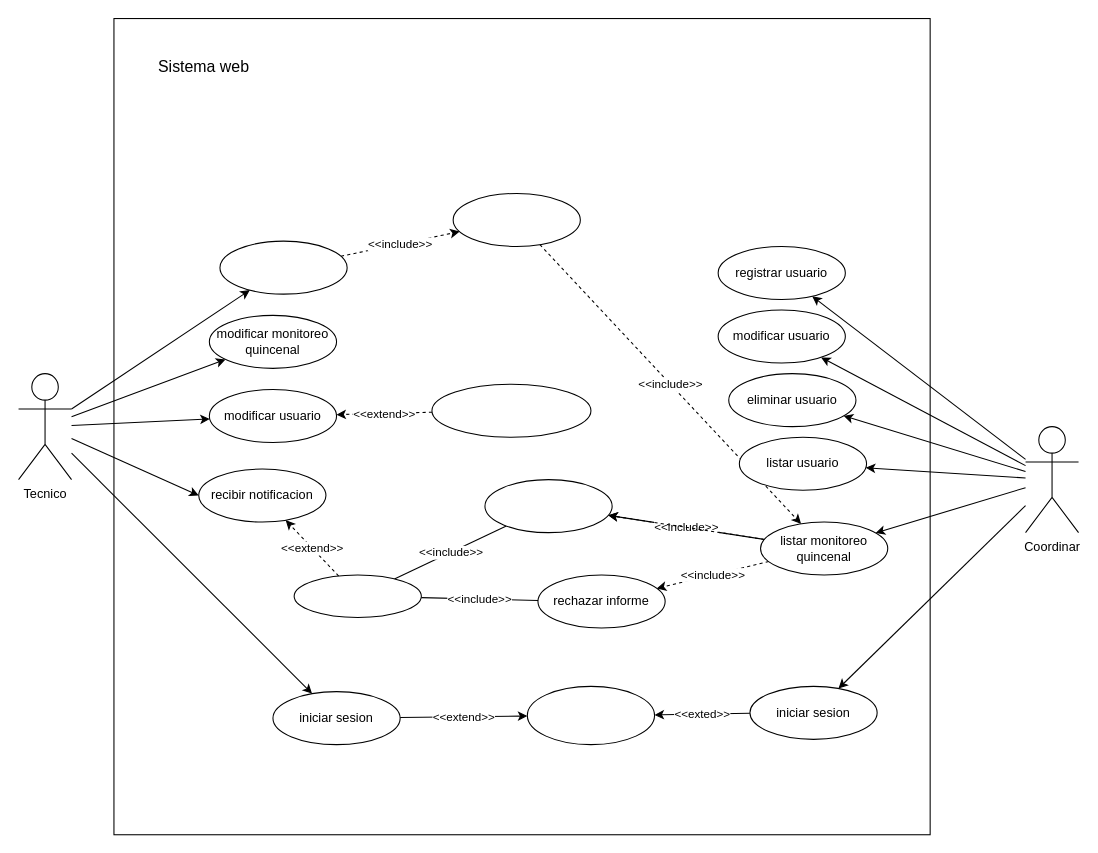
Some shapes in this 1098 by 853 pixel diagram are drawn without their labels. The box of each missing label's shape, as (x1, y1, x2, y2) in pixels:
acceder al sistema: (526, 685, 655, 745)
aprobar informe: (484, 479, 612, 533)
mostrar formulario sin passwrod: (431, 383, 591, 437)
notificar aporbacion: (293, 574, 421, 617)
registrar monitoreo quincenal: (219, 240, 347, 294)
verificar trasncurrido 15 dias: (452, 192, 580, 246)
